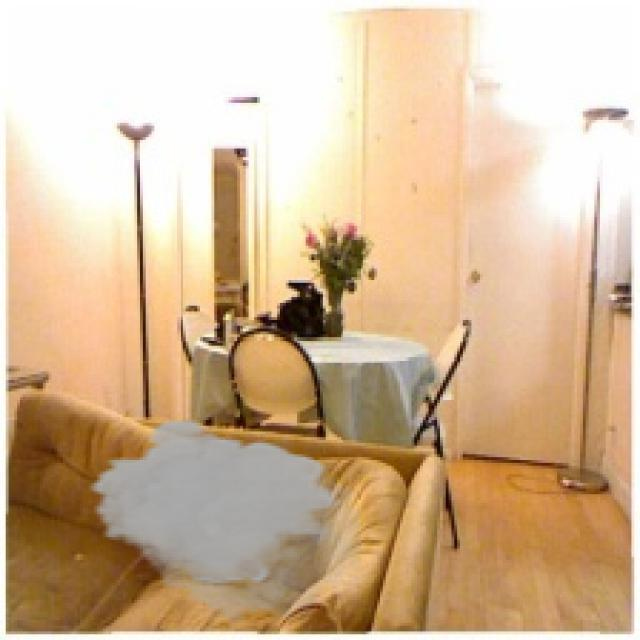Smoke: (86, 417, 360, 629)
